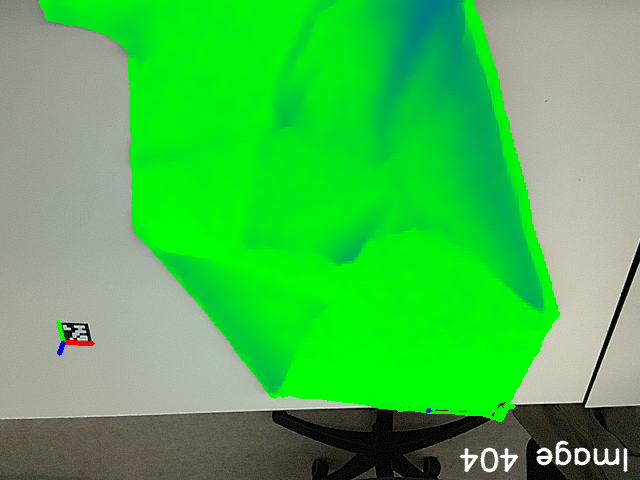V: (294, 279, 345, 326), (232, 216, 273, 256)
